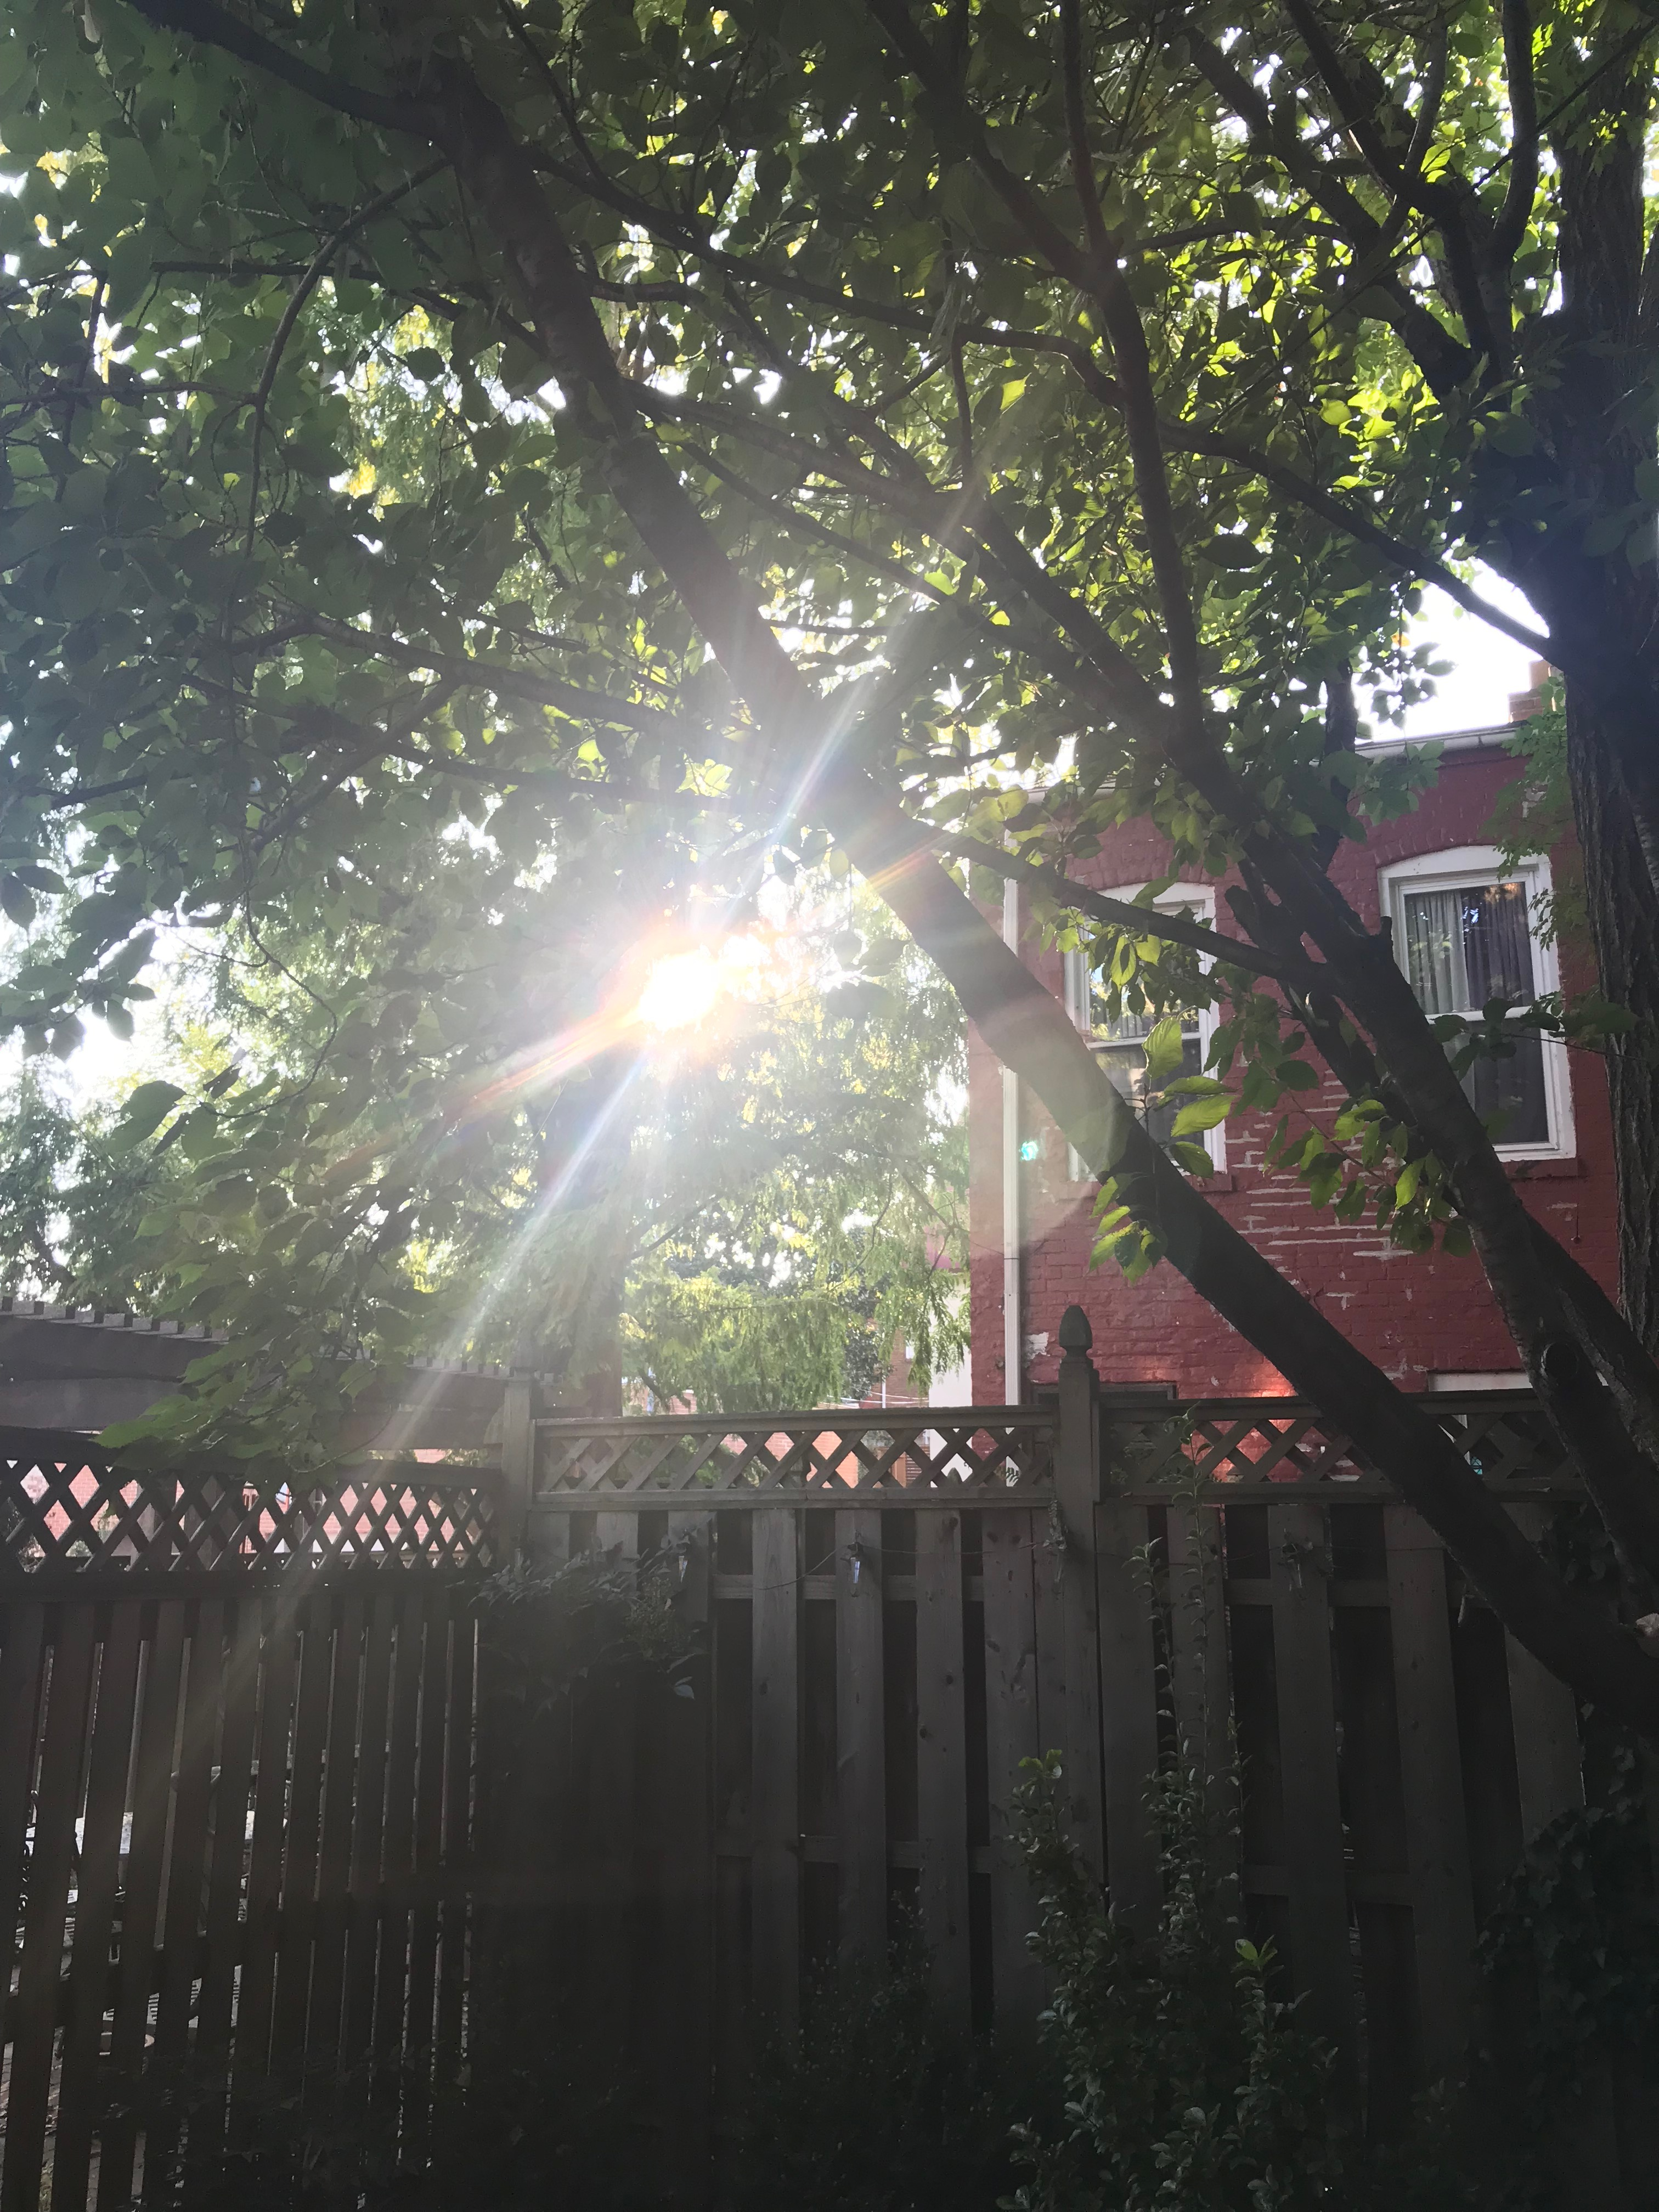flare: (1018, 1139, 1040, 1162)
